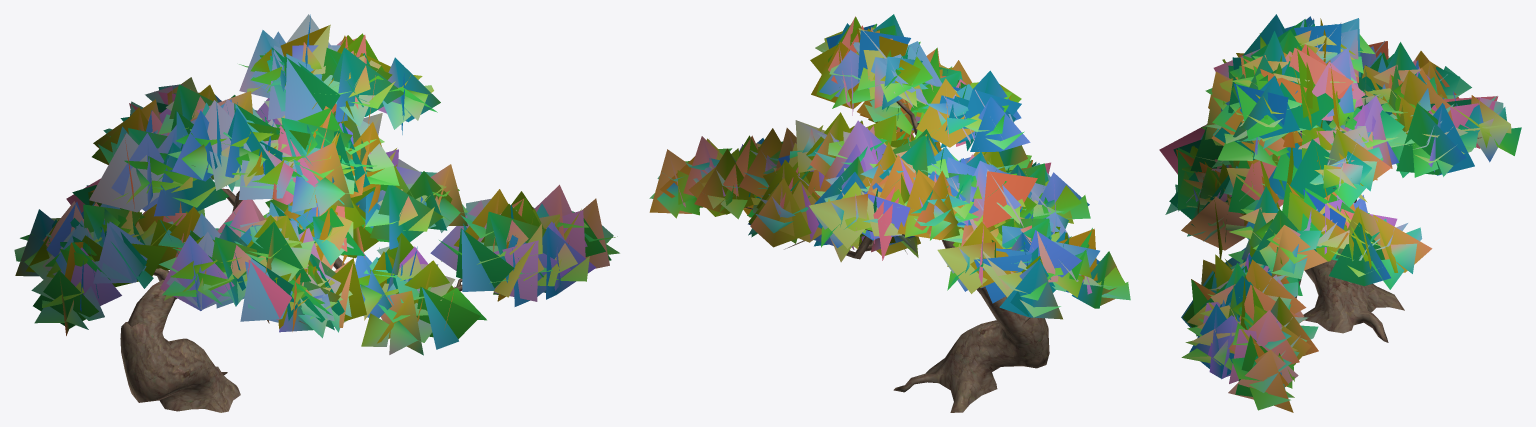
The model's file is Homeworld_Exterior_Common_Plant_Tree_04_Lod0.fbx.
3 renders of one model, left to right at view 1: azimuth 30°, elevation 25°; view 2: azimuth 150°, elevation 25°; view 3: azimuth 270°, elevation 25°, orthographic. The views are drawn at different scales.
Visible parts, largest first — view 1: Area_Ly_Tree_Common_Pt_06_Leaf_Lod0, Area_Ly_Tree_Common_Pt_06_Bark_Lod0; view 2: Area_Ly_Tree_Common_Pt_06_Leaf_Lod0, Area_Ly_Tree_Common_Pt_06_Bark_Lod0; view 3: Area_Ly_Tree_Common_Pt_06_Leaf_Lod0, Area_Ly_Tree_Common_Pt_06_Bark_Lod0.
Boxes of the visible parts, <box> form: Area_Ly_Tree_Common_Pt_06_Leaf_Lod0: <box>14,14,619,355</box>; Area_Ly_Tree_Common_Pt_06_Bark_Lod0: <box>120,165,462,412</box>; Area_Ly_Tree_Common_Pt_06_Leaf_Lod0: <box>649,14,1130,319</box>; Area_Ly_Tree_Common_Pt_06_Bark_Lod0: <box>745,100,1049,412</box>; Area_Ly_Tree_Common_Pt_06_Leaf_Lod0: <box>1159,14,1521,412</box>; Area_Ly_Tree_Common_Pt_06_Bark_Lod0: <box>1295,137,1481,342</box>.
Bounding box in the file's own units: 10.58 × 6.65 × 6.26.
2 materials, 1 textured.
